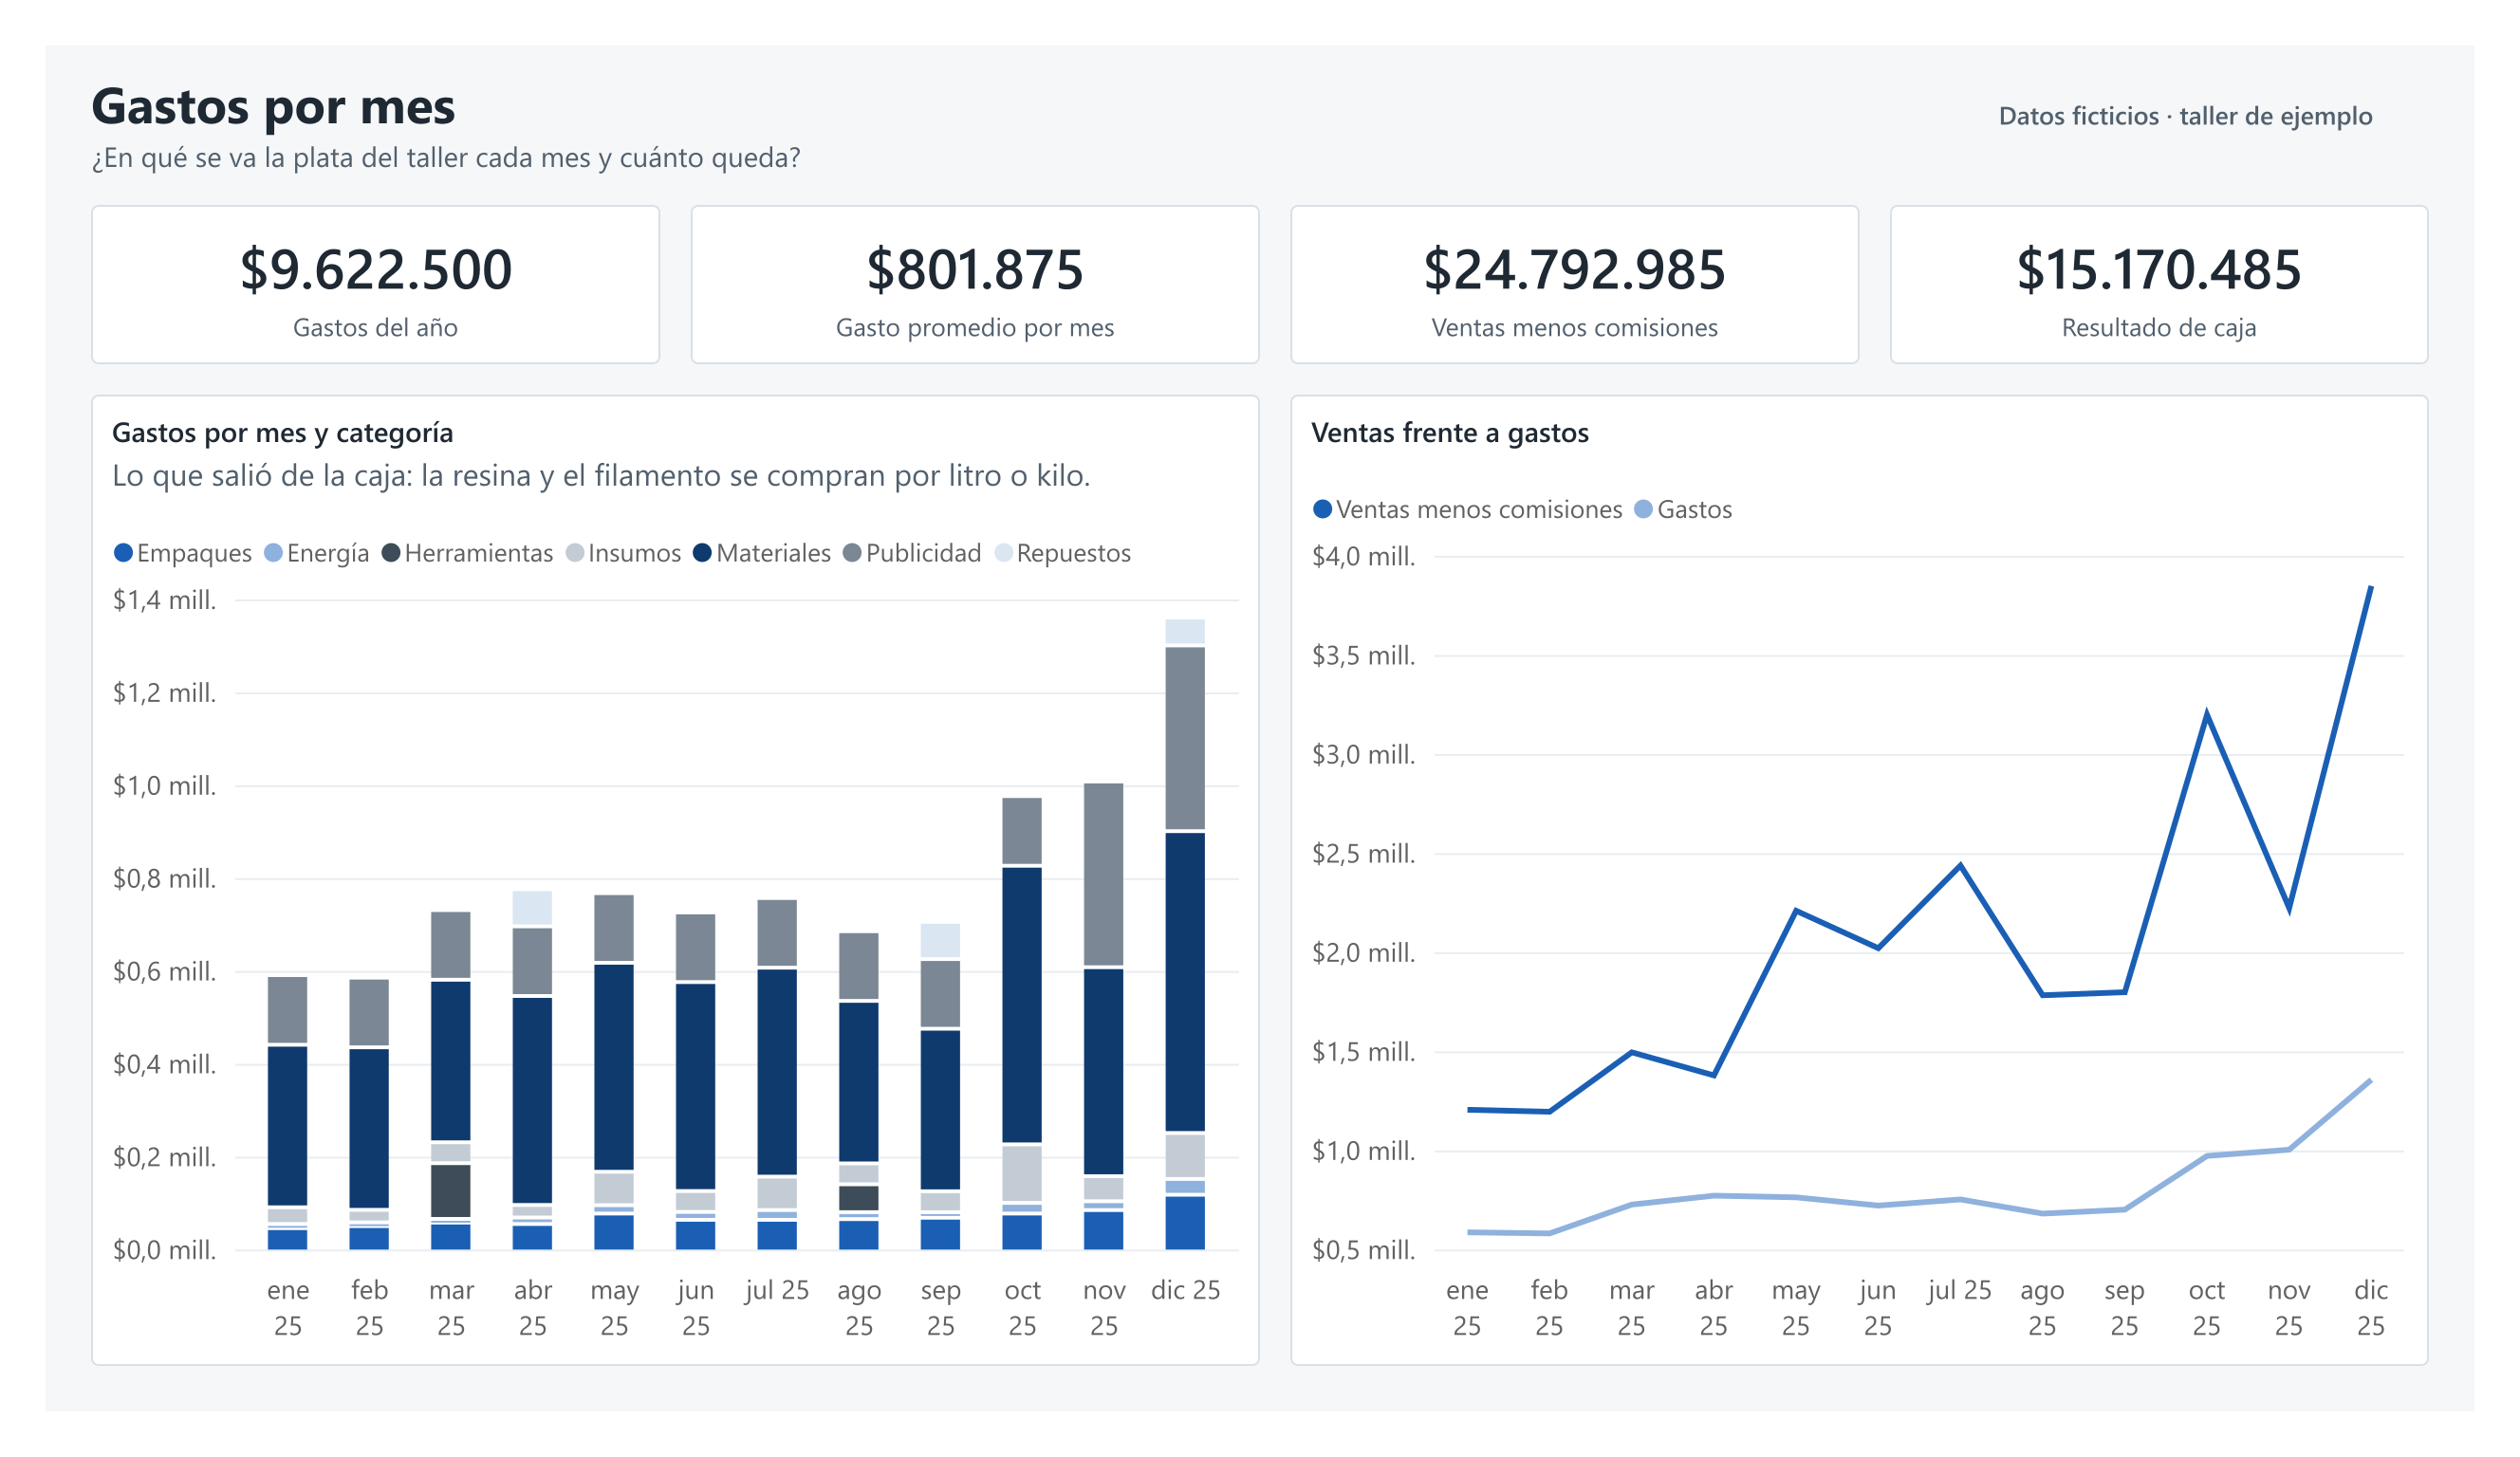

This screenshot's page, from the dashboard's own definition file:
{"tool":"powerbi","page":{"name":"Gastos por mes","canvas":[1280,720],"ordinal":2},"visuals":[{"type":"textbox","box":[24,12,900,64],"z":0},{"type":"card","fields":{"Values":["Medidas.Origen de los datos"]},"box":[1000,12,256,56],"z":1000},{"type":"card","fields":{"Values":["Medidas.Gastos"]},"box":[24,84,300,84],"z":2000},{"type":"card","fields":{"Values":["Medidas.Gasto promedio por mes"]},"box":[340,84,300,84],"z":3000},{"type":"card","fields":{"Values":["Medidas.Ventas menos comisiones"]},"box":[656,84,300,84],"z":4000},{"type":"card","fields":{"Values":["Medidas.Resultado de caja"]},"box":[972,84,284,84],"z":5000},{"type":"columnChart","title":"Gastos por mes y categoría","fields":{"Category":["Calendario.Mes"],"Series":["Gastos.categoria"],"Y":["Medidas.Gastos"]},"box":[24,184,616,512],"z":6000},{"type":"lineChart","title":"Ventas frente a gastos","fields":{"Category":["Calendario.Mes"],"Y":["Medidas.Ventas menos comisiones","Medidas.Gastos"]},"box":[656,184,600,512],"z":7000}]}

Visuals, with their boxes in screenshot pixels (x1, y1, x2, y2), scaled from the page's 1280x720 canvas onto the 2520x1457 screenshot:
textbox: 47,25,1819,154
card - Medidas.Origen de los datos: 1969,25,2473,138
card - Medidas.Gastos: 47,170,638,340
card - Medidas.Gasto promedio por mes: 670,170,1260,340
card - Medidas.Ventas menos comisiones: 1291,170,1882,340
card - Medidas.Resultado de caja: 1914,170,2473,340
"Gastos por mes y categoría" columnChart: 47,373,1260,1409
"Ventas frente a gastos" lineChart: 1291,373,2473,1409
